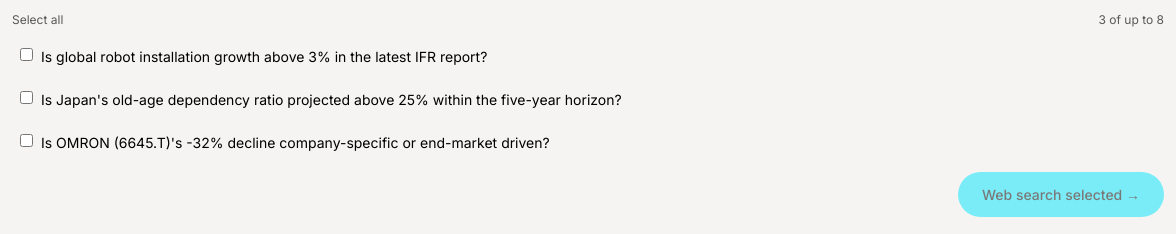
Scenario: <OpenQuestionsResolver> › Select all / Clear selection toggles every checkbox
Click the button "Select all".
click(38, 20)  # box [12, 12, 63, 28]
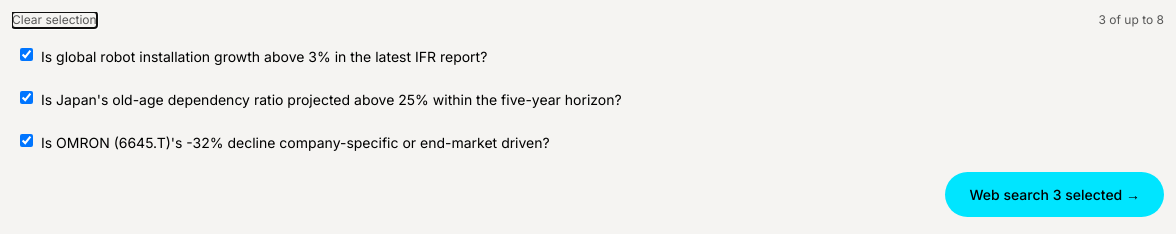
expect the checkbox named "Select question 1 for web search" is checked: met, box [20, 48, 33, 61]
expect the checkbox named "Select question 2 for web search" is checked: met, box [20, 91, 33, 104]
expect the checkbox named "Select question 3 for web search" is checked: met, box [20, 134, 33, 146]
Click the button "Clear selection".
click(54, 20)  # box [12, 12, 97, 28]
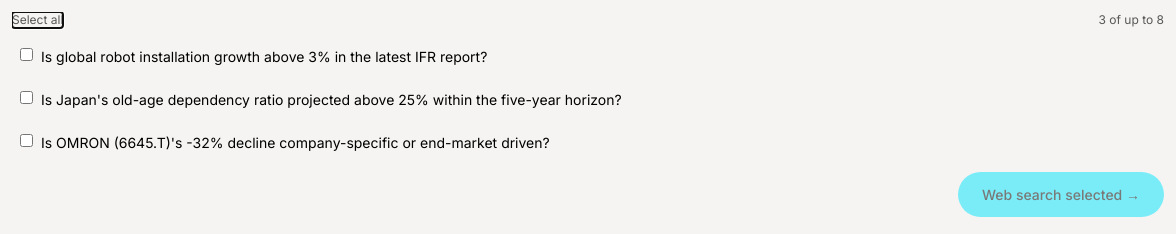
expect the checkbox named "Select question 1 for web search" is not checked: met, box [20, 48, 33, 61]
expect the checkbox named "Select question 2 for web search" is not checked: met, box [20, 91, 33, 104]
expect the checkbox named "Select question 3 for web search" is not checked: met, box [20, 134, 33, 146]
